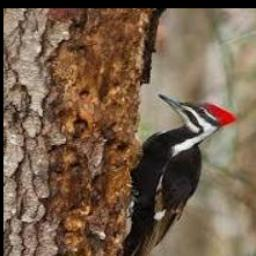Woodpecker: (122, 94, 235, 256)
